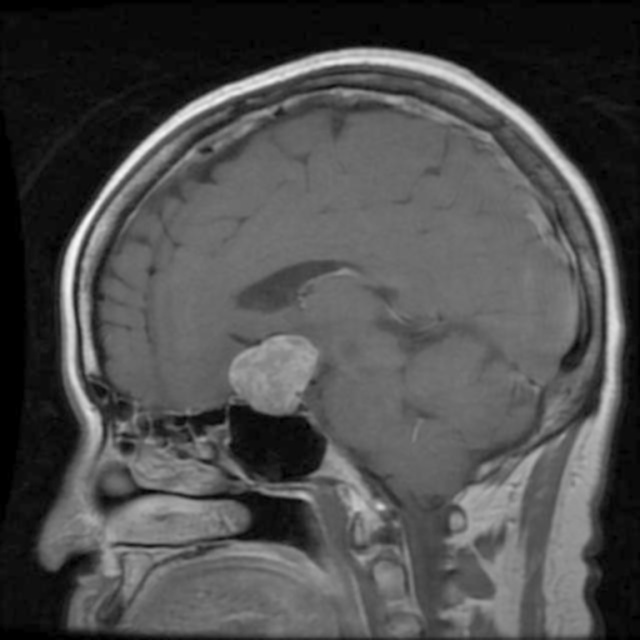no tumor: (225, 332, 325, 412)
